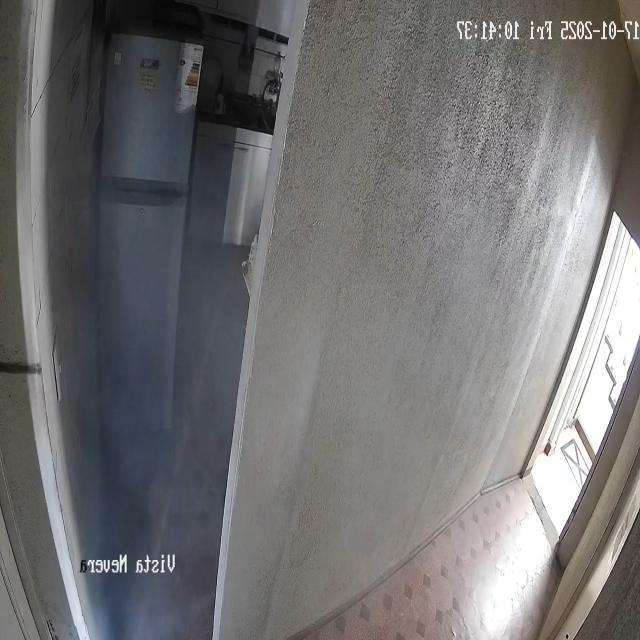fire: (46, 134, 254, 639)
